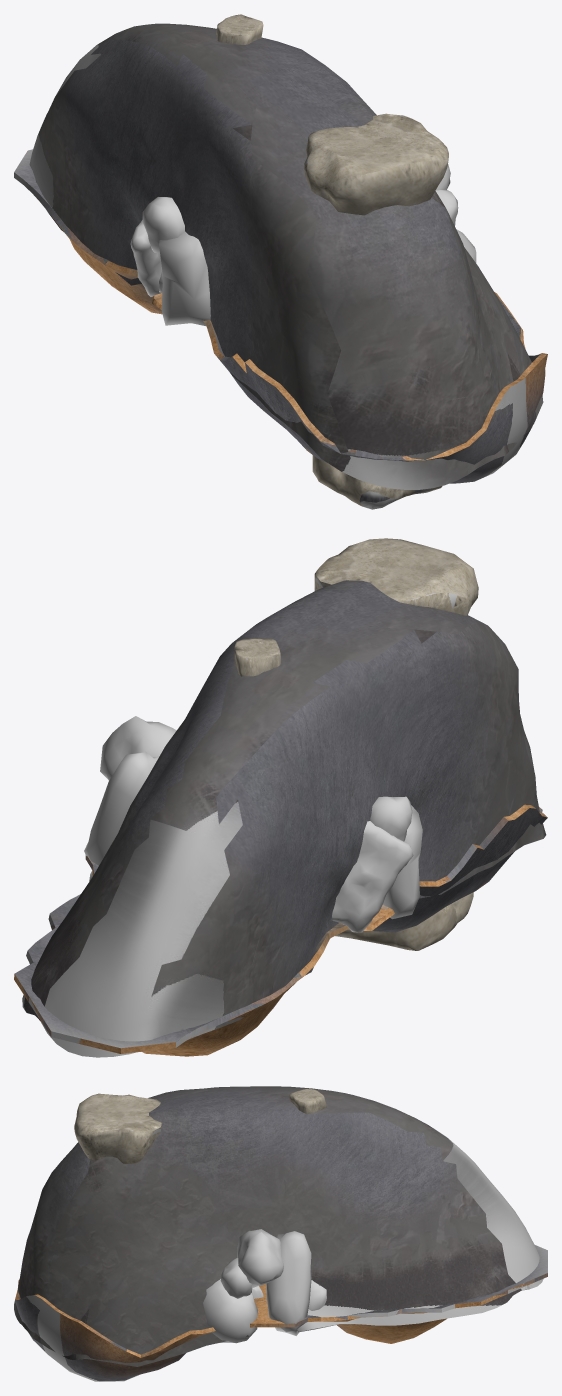
File: Entrance Cave Final.fbx
The picture shows the model from 3 angles, top to bottom: view 1: azimuth 30°, elevation 25°; view 2: azimuth 150°, elevation 25°; view 3: azimuth 270°, elevation 25°; orthographic projection. The views are drawn at different scales.
Visible parts, largest first — view 1: Entrance Cave, pilar1.002, Enrance Floor, Entrance Exit, pilar2.002, Entrance Entery; view 2: Entrance Cave, Enrance Floor, pilar1.002, Entrance Exit, Entrance Entery, pilar2.002; view 3: Entrance Cave, Enrance Floor, Entrance Entery, pilar1.002, pilar2.002.
Boxes of the visible parts, bbox=[...] form: Entrance Cave: bbox=[29, 23, 543, 489]; pilar1.002: bbox=[304, 113, 448, 509]; Enrance Floor: bbox=[14, 149, 547, 483]; Entrance Exit: bbox=[130, 197, 210, 325]; pilar2.002: bbox=[216, 14, 263, 44]; Entrance Entery: bbox=[435, 164, 476, 262]; Entrance Cave: bbox=[22, 580, 546, 1057]; Enrance Floor: bbox=[14, 804, 547, 1056]; pilar1.002: bbox=[314, 538, 478, 950]; Entrance Exit: bbox=[332, 796, 422, 932]; Entrance Entery: bbox=[84, 716, 176, 870]; pilar2.002: bbox=[234, 638, 280, 676]; Entrance Cave: bbox=[14, 1086, 543, 1366]; Enrance Floor: bbox=[15, 1245, 547, 1381]; Entrance Entery: bbox=[203, 1229, 326, 1343]; pilar1.002: bbox=[74, 1093, 161, 1164]; pilar2.002: bbox=[289, 1088, 326, 1113].
Size of the model in its own units: 984 by 1112 by 2085.
